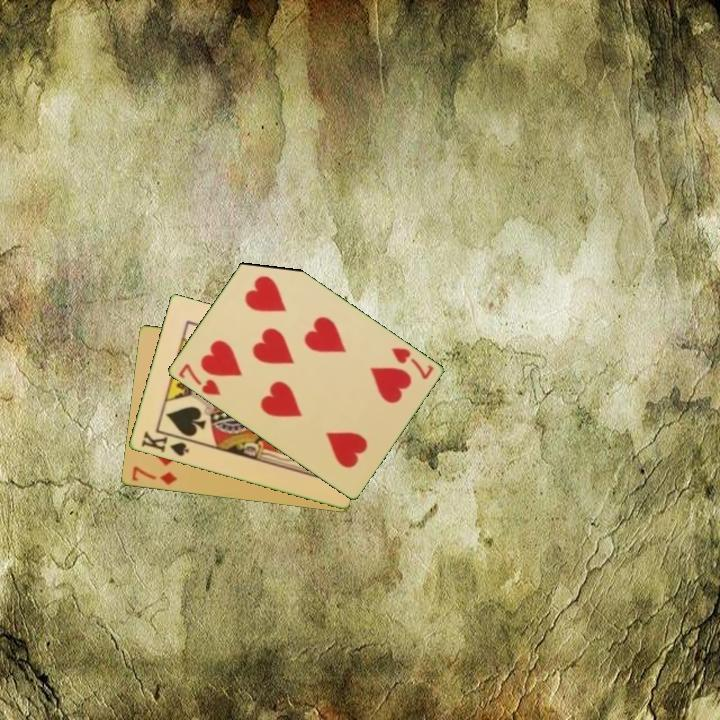7d: (128, 463, 180, 488)
7h: (174, 360, 223, 399), (387, 344, 436, 383)
Ks: (137, 428, 192, 459)
